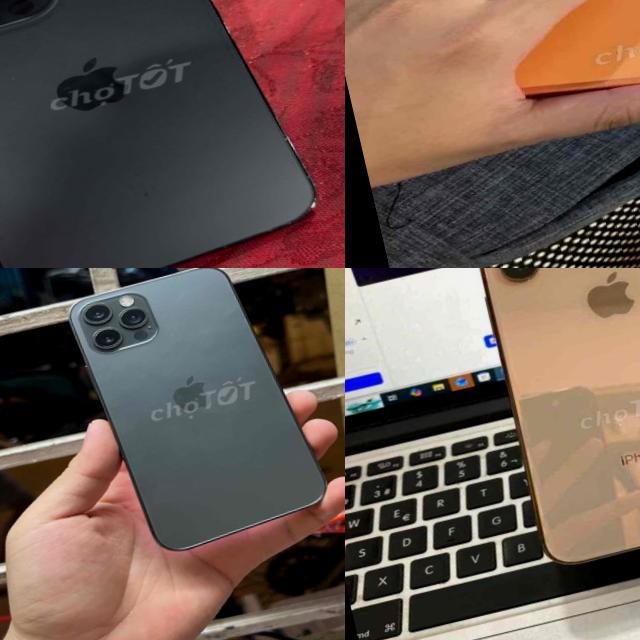gen_12_13: (62, 268, 337, 565)
gen_14: (0, 0, 345, 268)
gen_x_xs: (454, 268, 640, 581)
